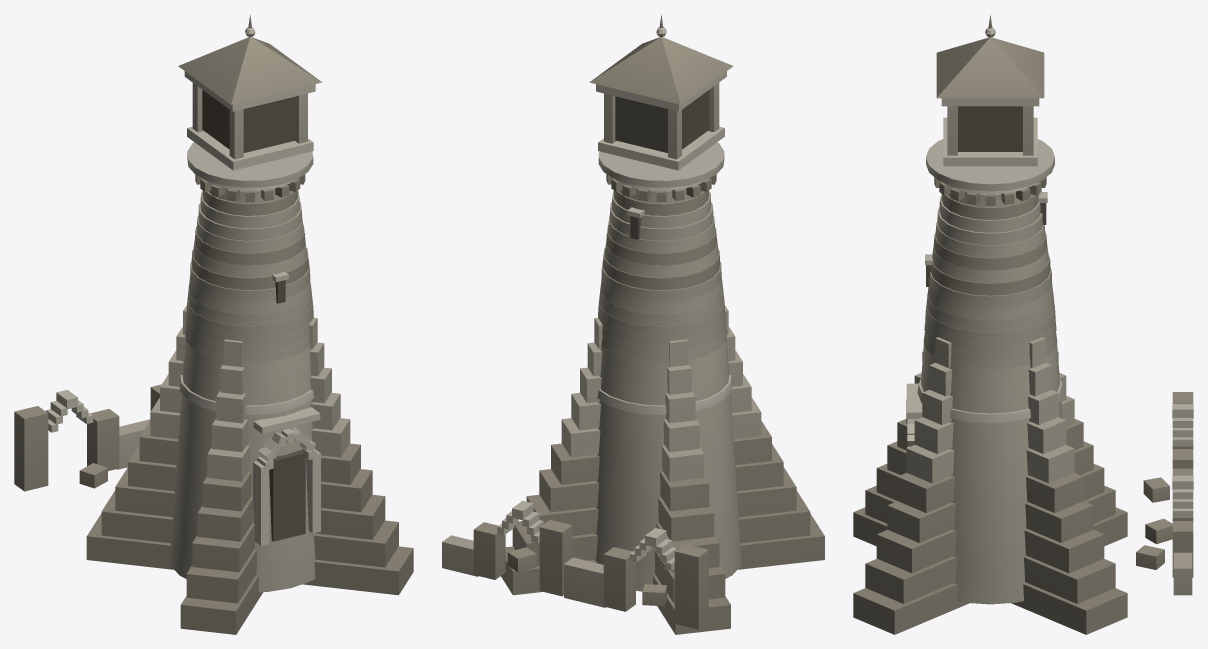
Rendered from watchtower.glb.
3 views of the same model, side by side, from view 1: azimuth 30°, elevation 25°; view 2: azimuth 150°, elevation 25°; view 3: azimuth 270°, elevation 25° (orthographic). The views are drawn at different scales.
Parts seen in each view (by area): view 1: watchtower; view 2: watchtower; view 3: watchtower.
Boxes of the visible parts, box(x1,y1,x2,y2) form: watchtower: box(14, 15, 413, 634); watchtower: box(442, 14, 824, 634); watchtower: box(853, 14, 1193, 634).
Size of the model in its own units: 9.28 by 19.04 by 10.44.
